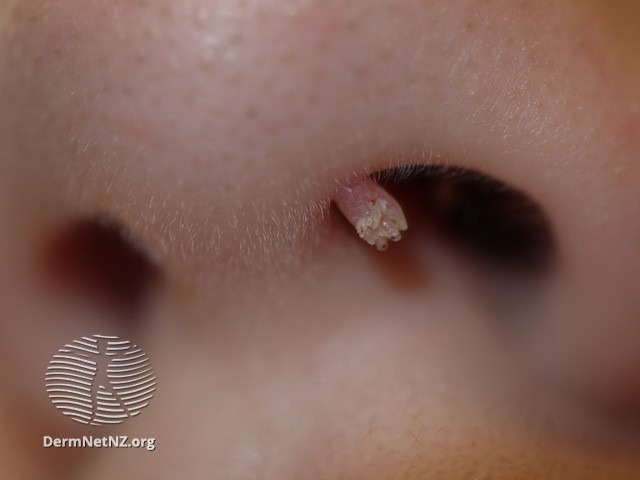Warts: (321, 156, 415, 261)
